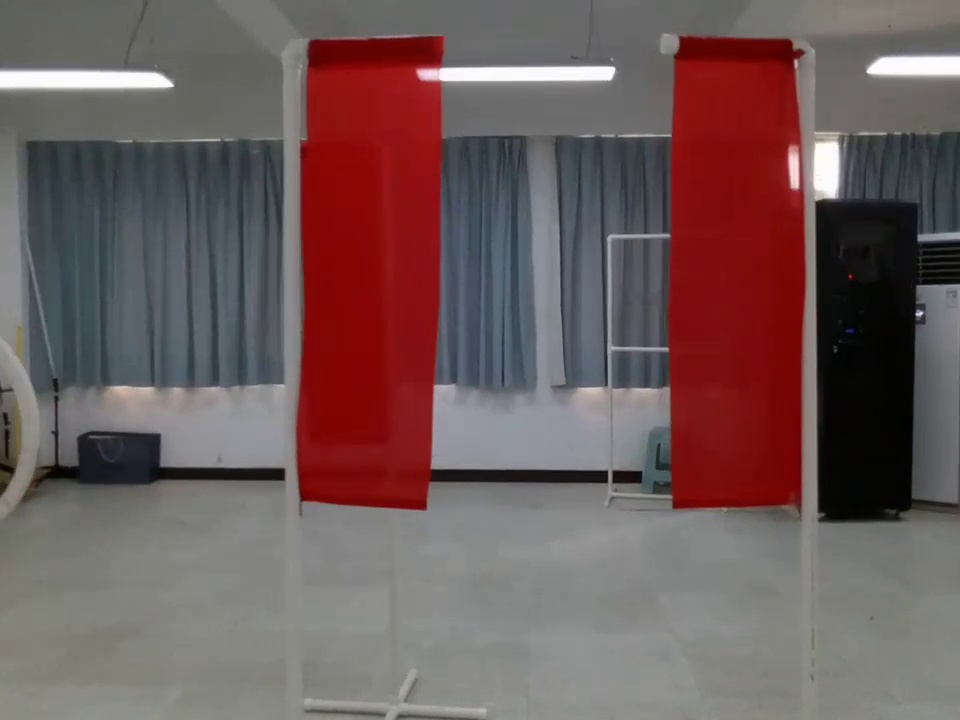qi: (654, 26, 822, 519), (284, 33, 442, 524)
